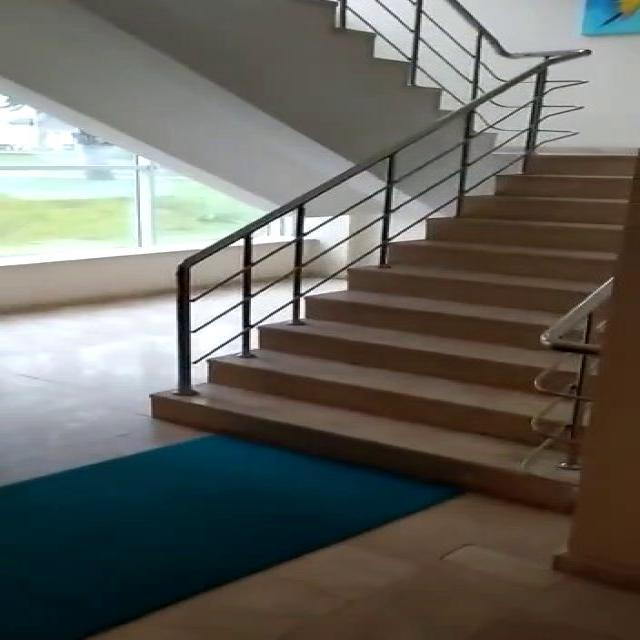stair: (112, 147, 640, 521)
